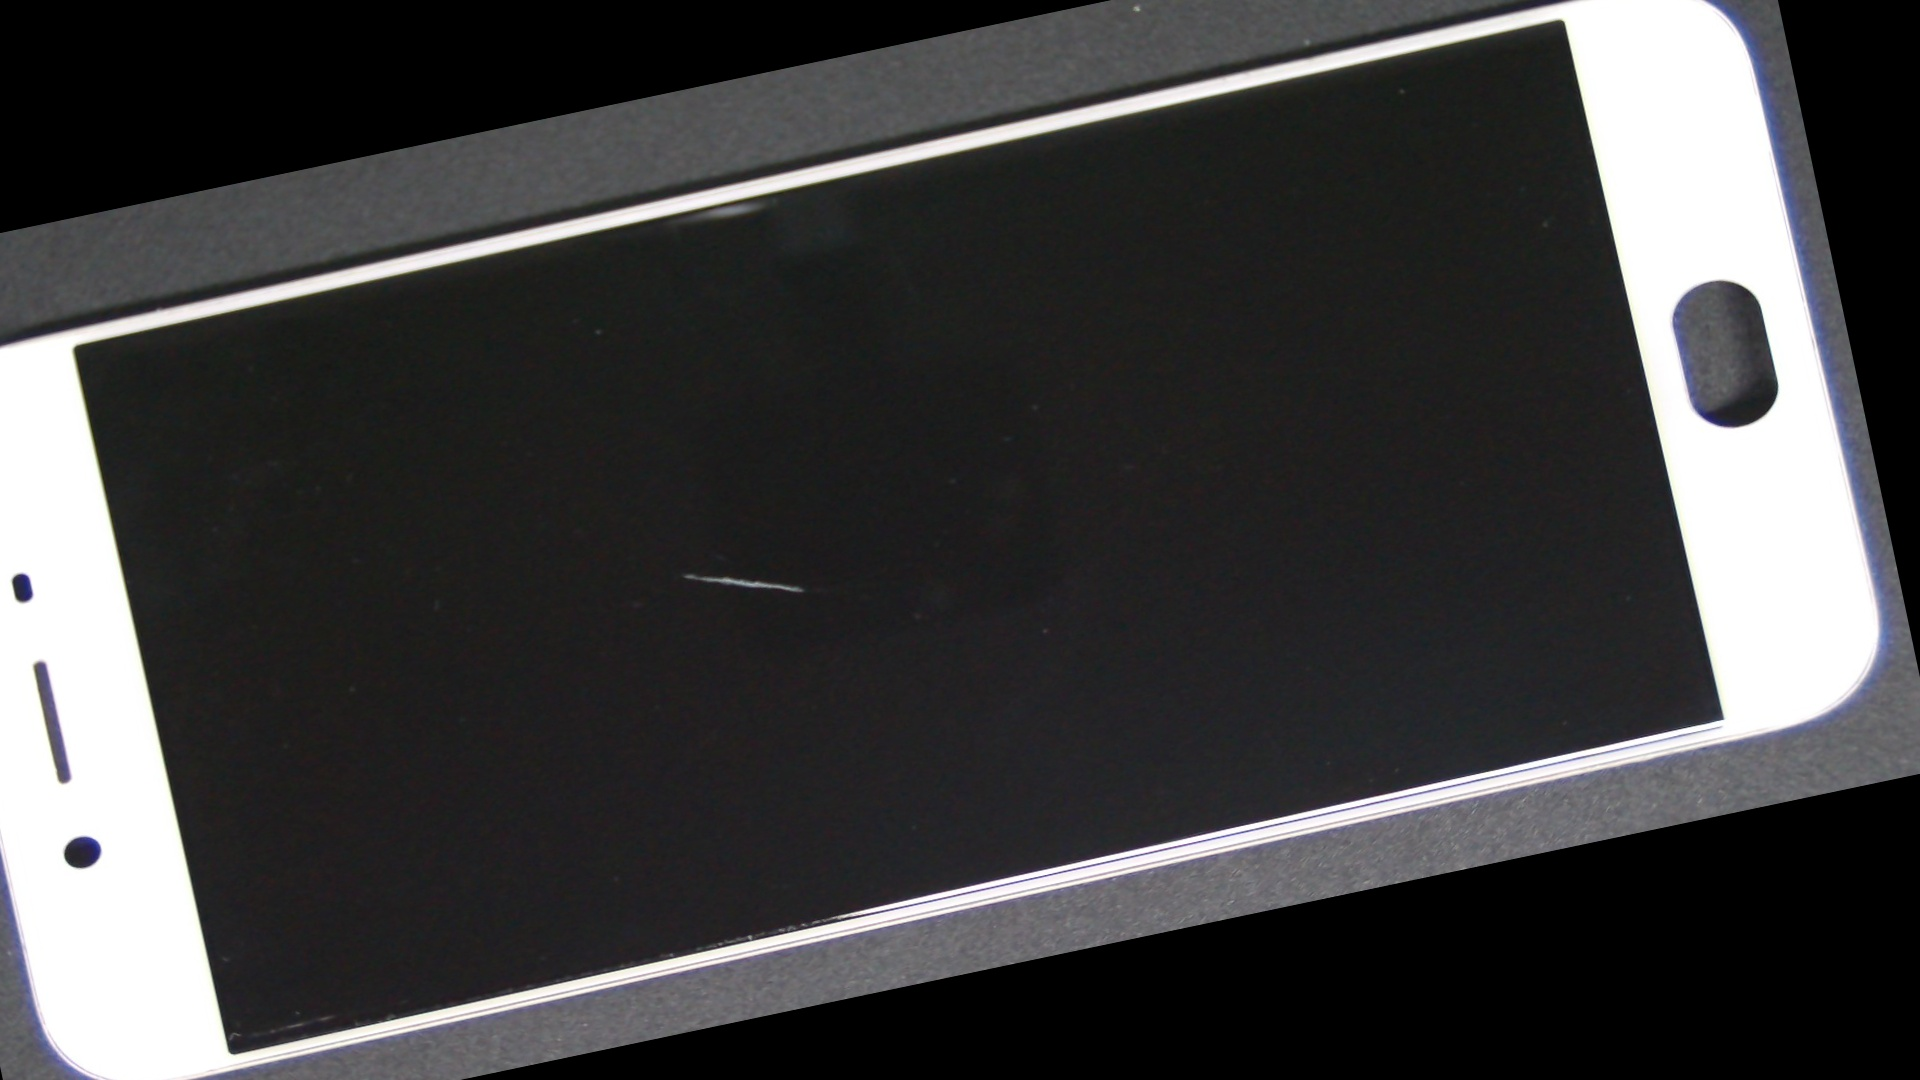oil: (258, 262, 1108, 884)
